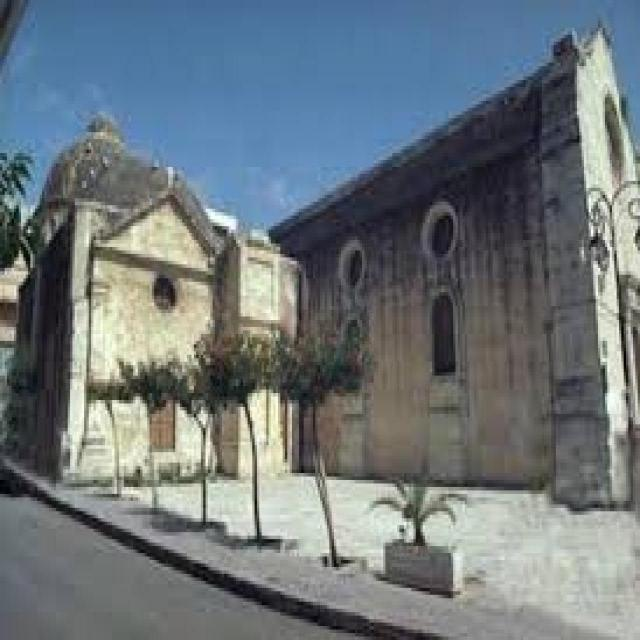Agia Aikaterini: (17, 28, 640, 506)
